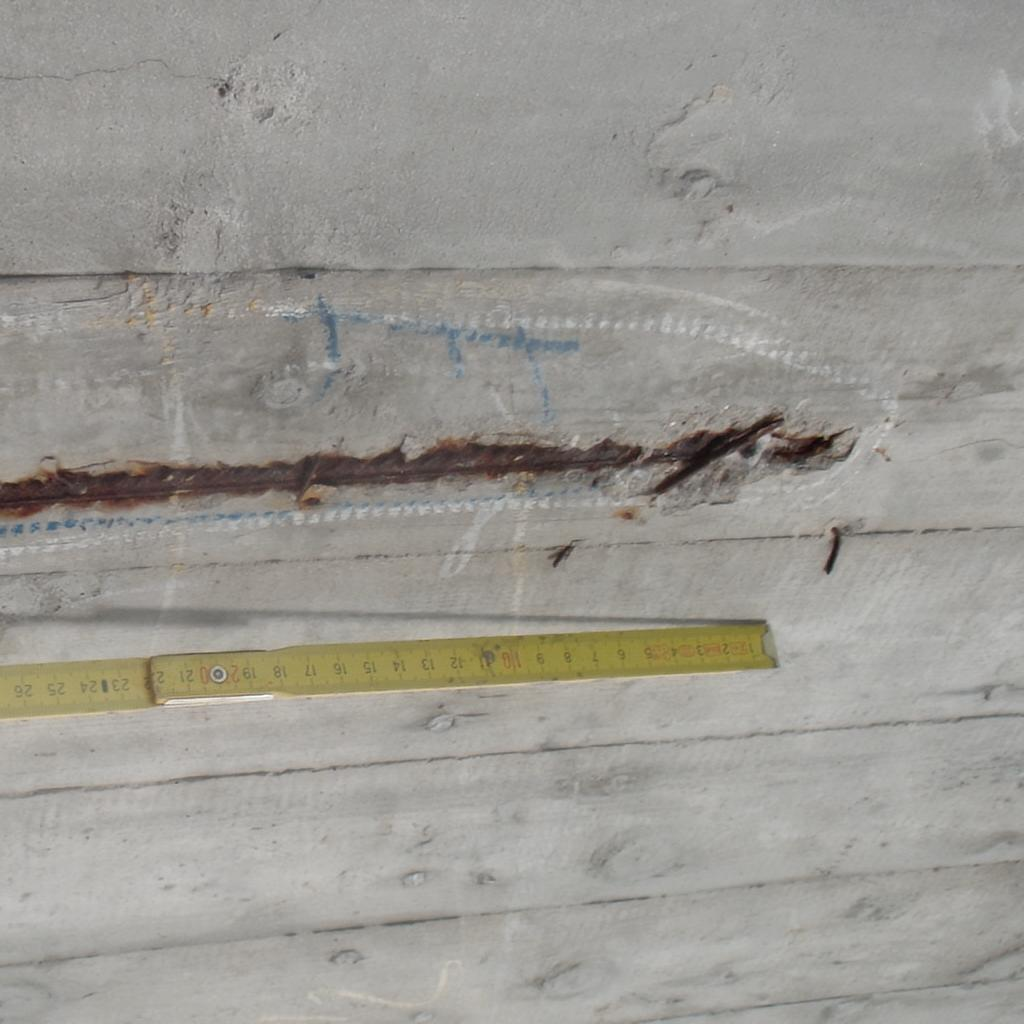exposed_rebar: (0, 412, 852, 515)
